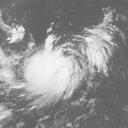cyclone: (23, 47, 78, 93)
